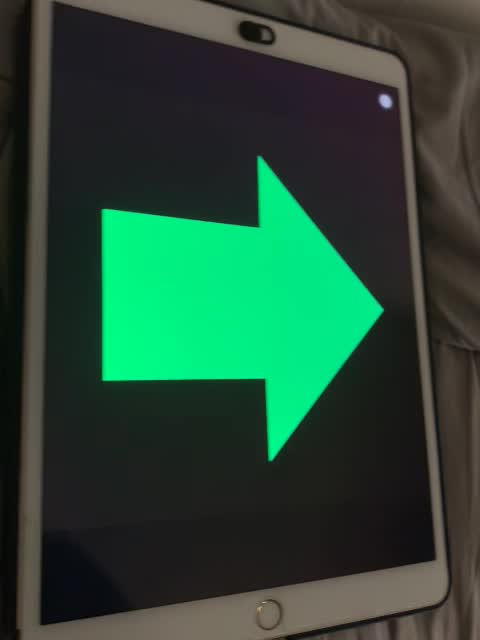right: (96, 141, 386, 459)
